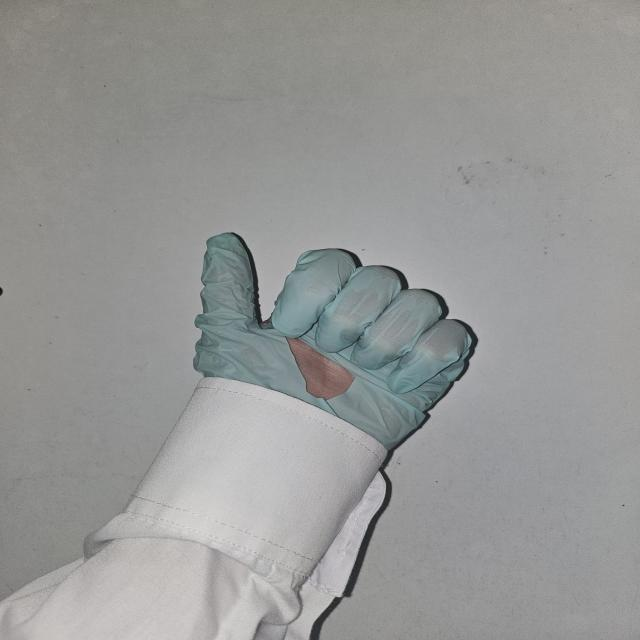gloves_damaged: (190, 226, 484, 449)
